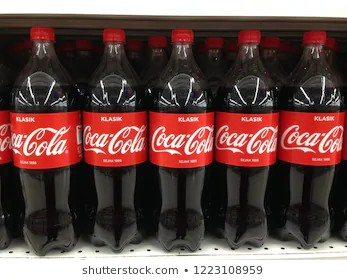coke-bottle-2l: (11, 24, 83, 254), (82, 24, 151, 254), (150, 23, 216, 254), (281, 22, 346, 252), (216, 23, 281, 252)
